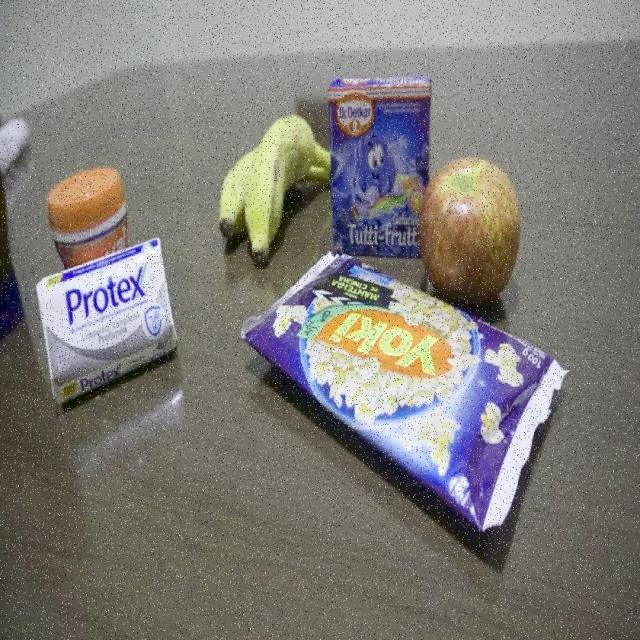Apple: (418, 151, 523, 307)
Banana: (217, 115, 332, 270)
Gelatine: (325, 75, 434, 262)
Popcorn: (242, 249, 572, 536)
Soap: (36, 236, 178, 406)
Yeast: (44, 166, 132, 274)
